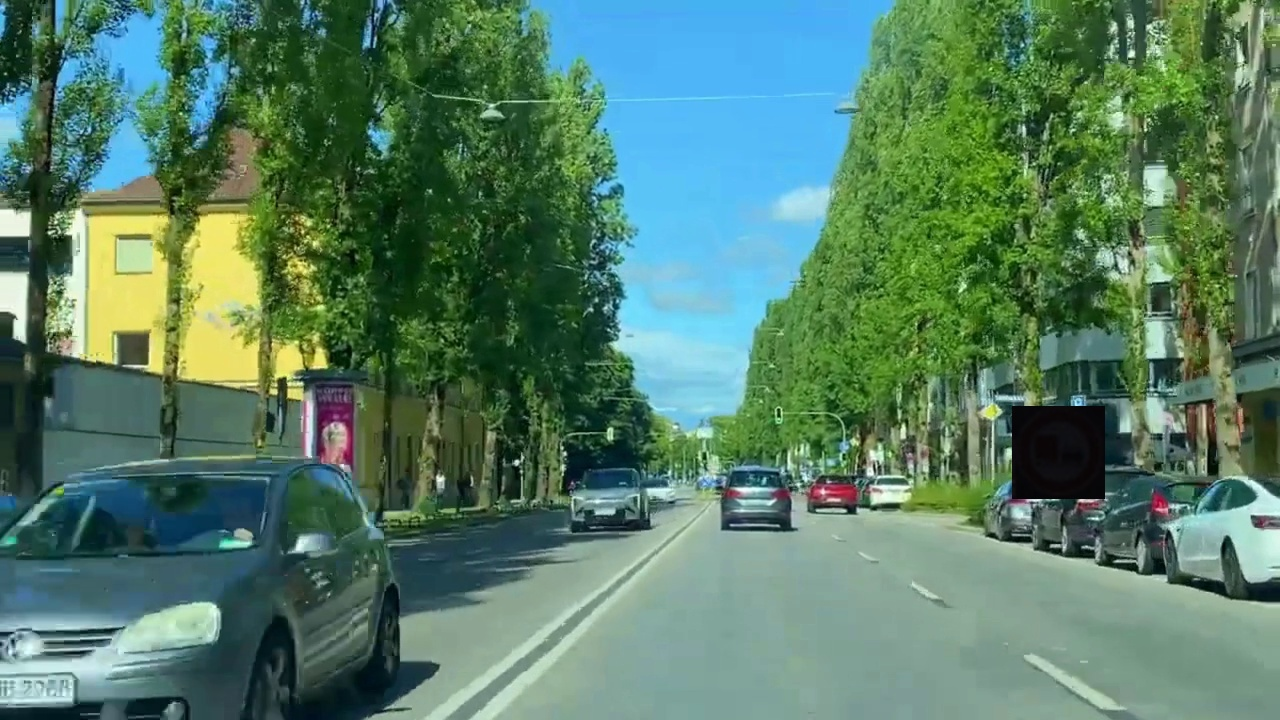No pass >3.5t: (1012, 406, 1105, 499)
